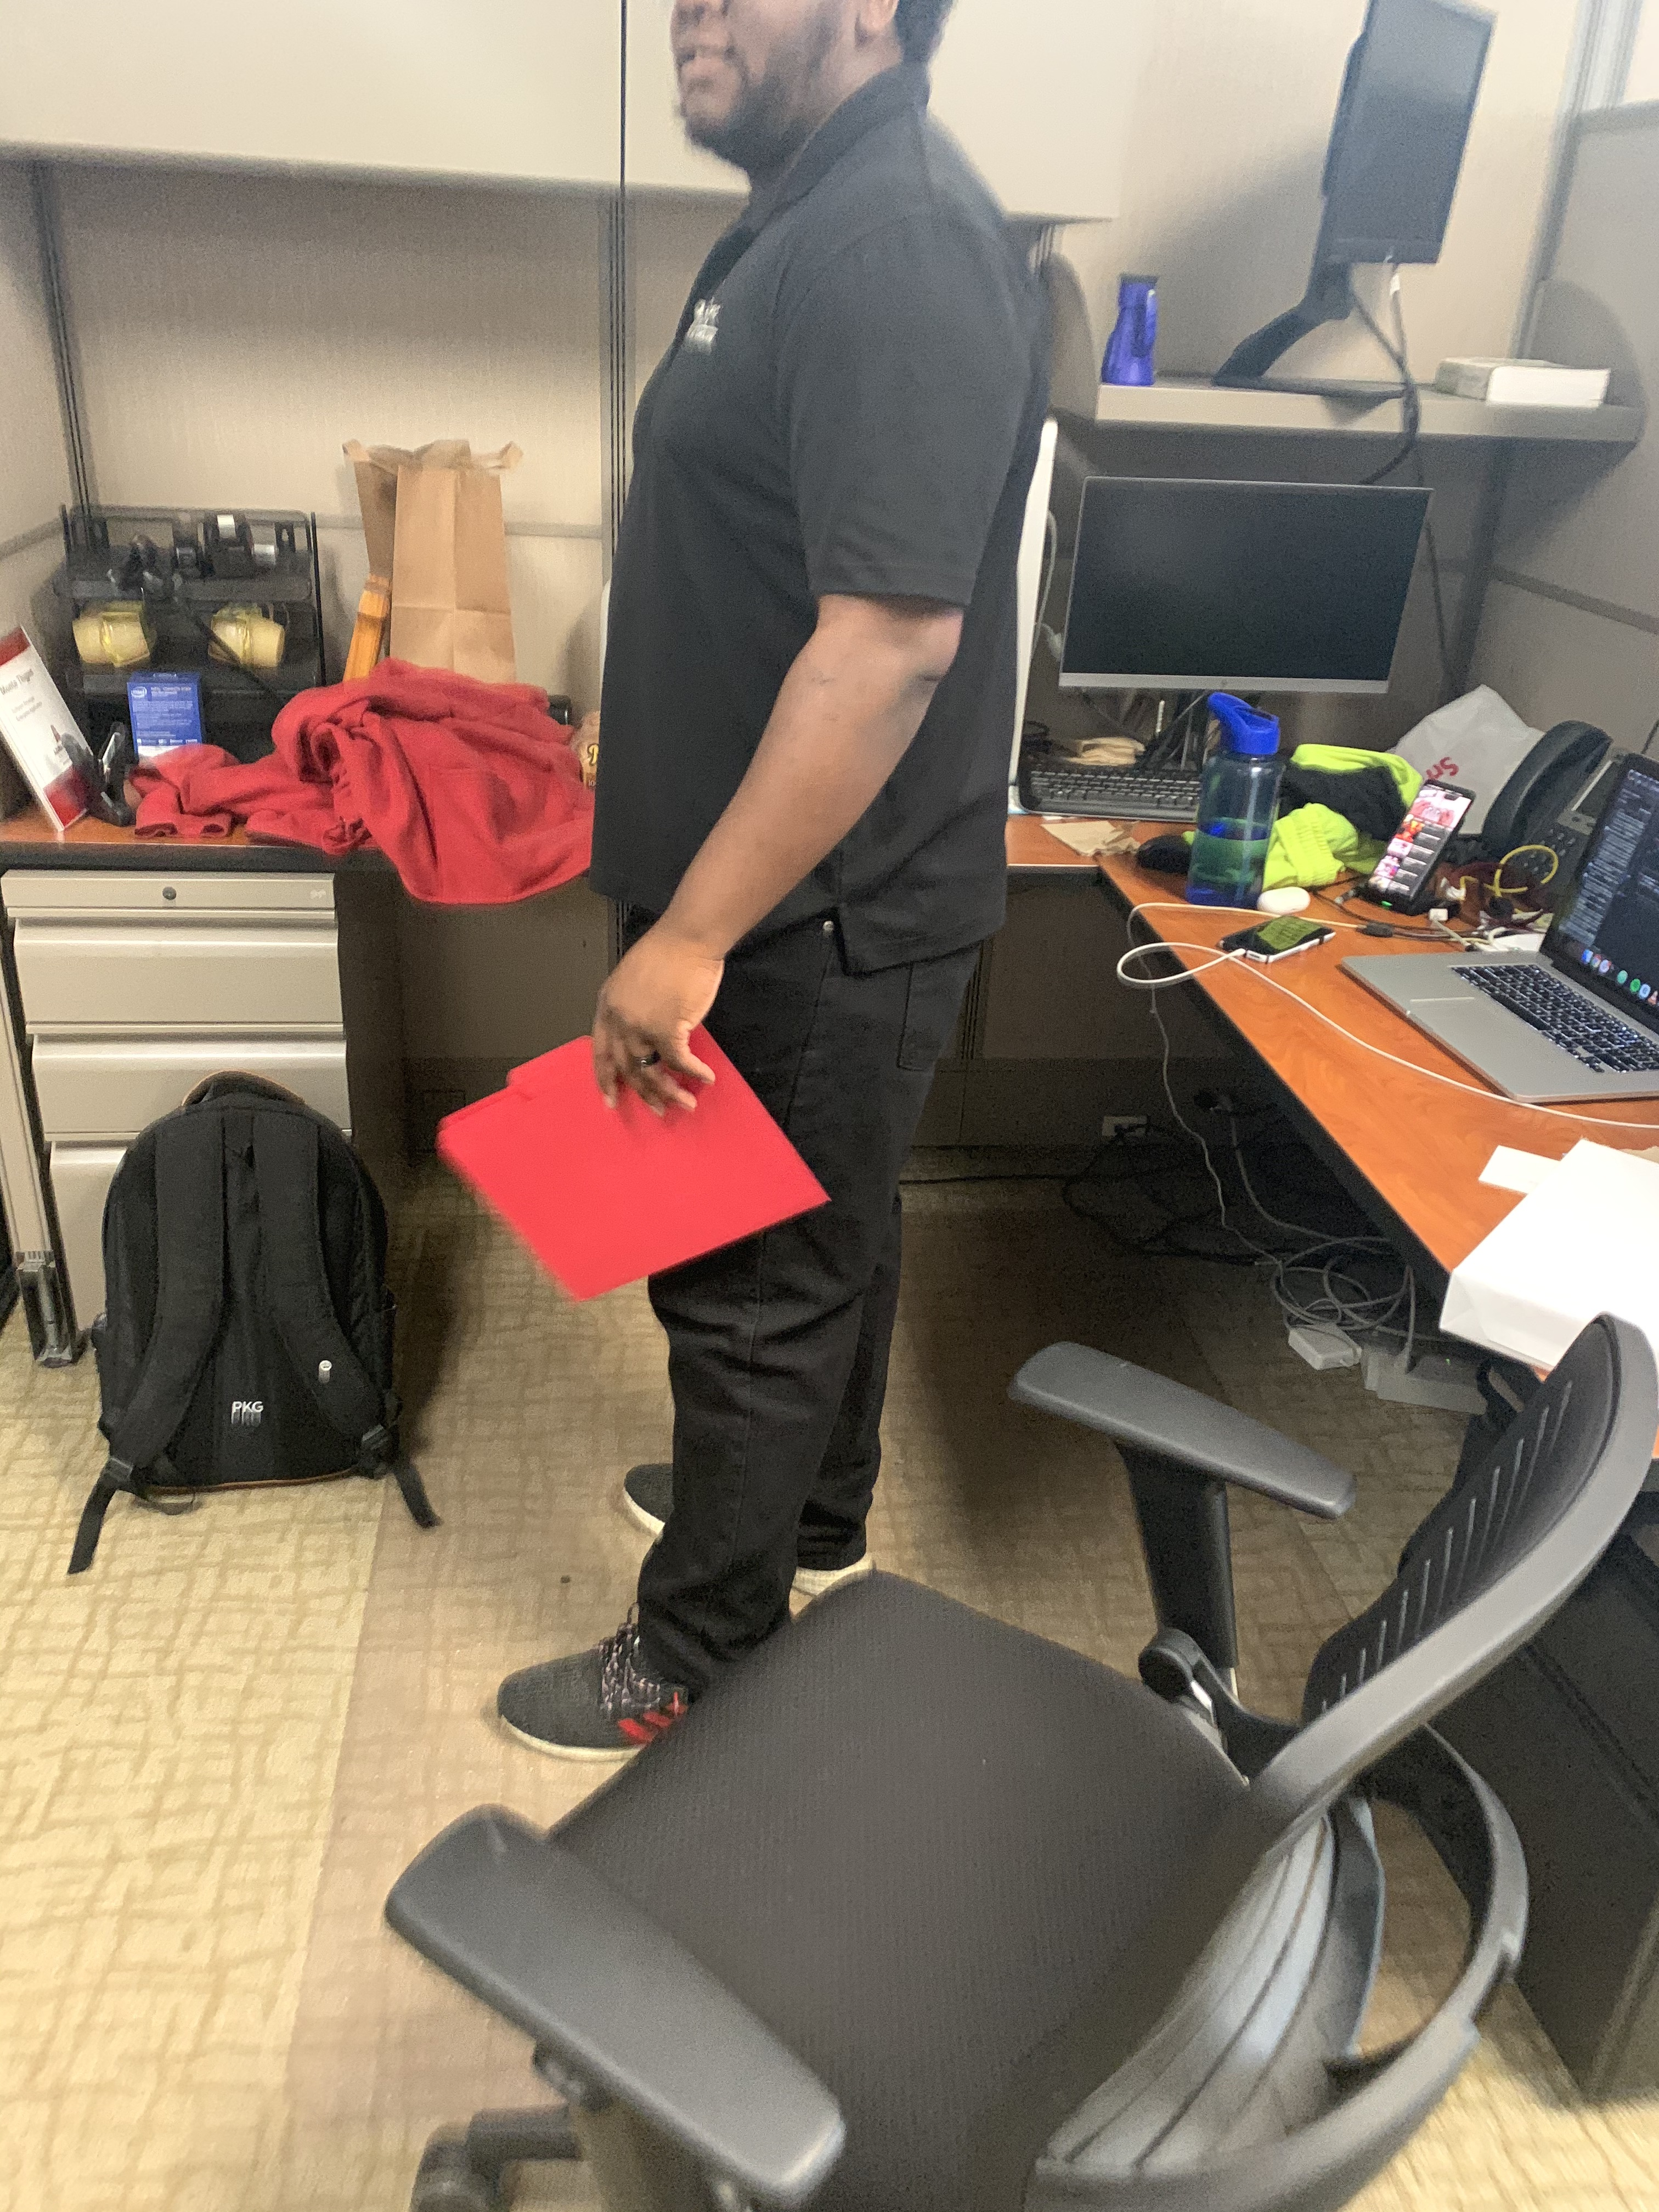red folder: (406, 1001, 864, 1305)
